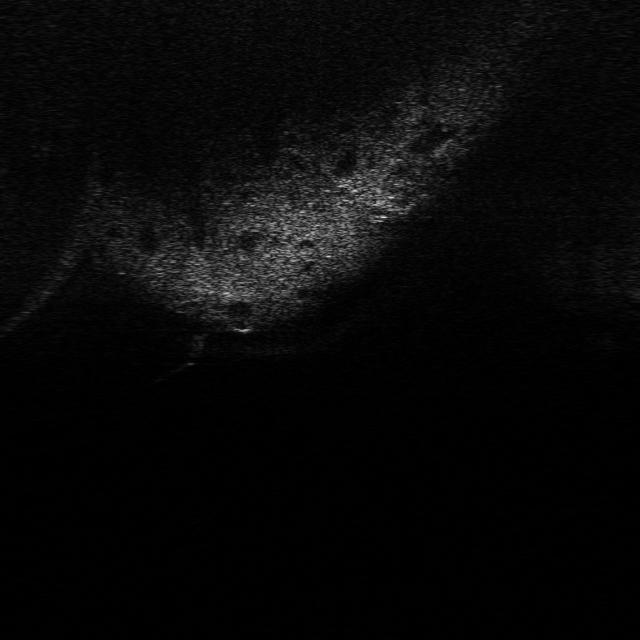cylinder: (186, 329, 208, 362)
